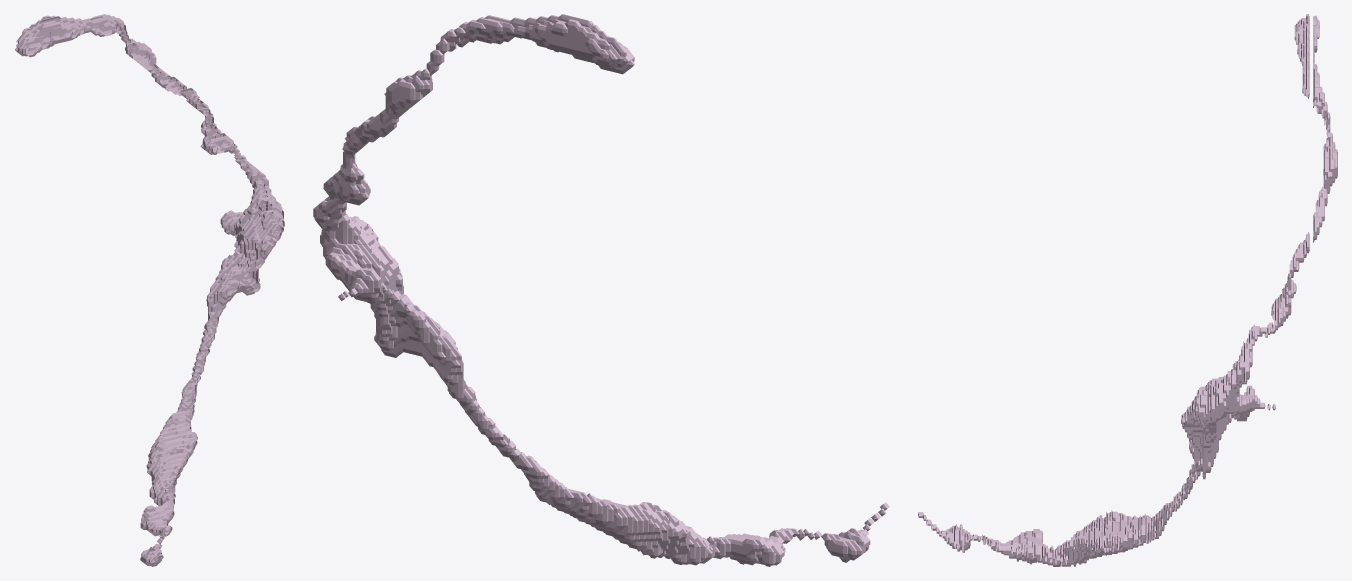
File: SVV_AIAR.gltf
3 views of the same model, side by side, from view 1: azimuth 30°, elevation 25°; view 2: azimuth 150°, elevation 25°; view 3: azimuth 270°, elevation 25° (orthographic). The views are drawn at different scales.
Parts seen in each view (by area): view 1: AIAR; view 2: AIAR; view 3: AIAR.
Part boxes in pixels (box(x1,y1,x2,y2)): AIAR: box(15, 14, 284, 566); AIAR: box(313, 14, 889, 566); AIAR: box(918, 14, 1337, 566).
Bounding box in the file's own units: 52267 × 90670 × 62366.
